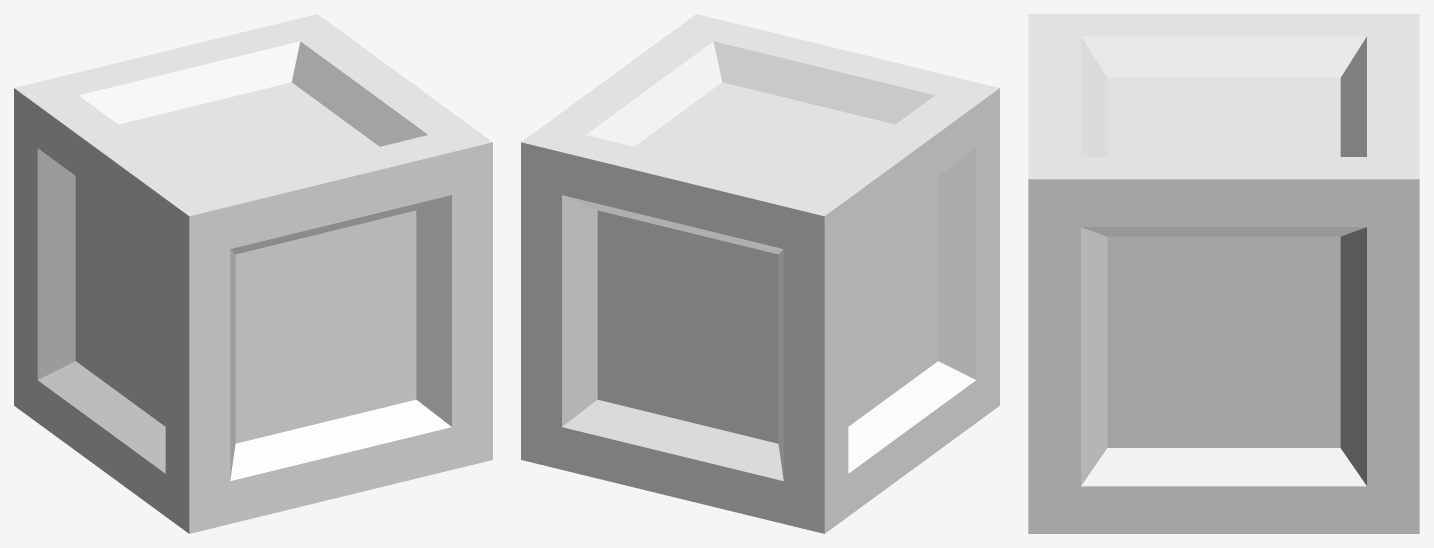
Rendered from PlayerNormalParticle.obj.
The picture shows the model from 3 angles, left to right: view 1: azimuth 30°, elevation 25°; view 2: azimuth 150°, elevation 25°; view 3: azimuth 270°, elevation 25°; orthographic projection. The views are drawn at different scales.
Visible parts, largest first — view 1: 立方体; view 2: 立方体; view 3: 立方体.
Part boxes in pixels (x1,y1,x2,y2): 立方体: (14, 14, 492, 533); 立方体: (521, 14, 999, 533); 立方体: (1028, 14, 1419, 533).
Bounding box in the file's own units: 0.2674 × 0.2674 × 0.2674.
